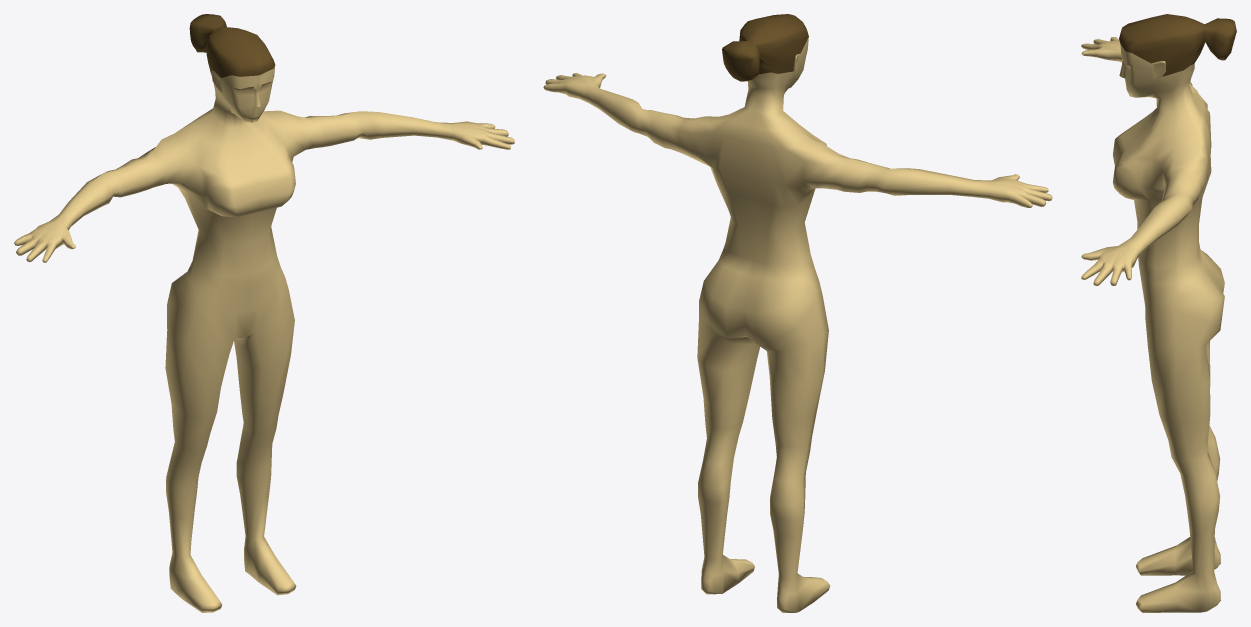
Rendered from Female.fbx.
The picture shows the model from 3 angles, left to right: view 1: azimuth 30°, elevation 25°; view 2: azimuth 150°, elevation 25°; view 3: azimuth 270°, elevation 25°; orthographic projection. The views are drawn at different scales.
Parts seen in each view (by area): view 1: Female1; view 2: Female1; view 3: Female1.
Part boxes in pixels (bbox=[...]): Female1: bbox=[14, 14, 514, 612]; Female1: bbox=[543, 14, 1052, 612]; Female1: bbox=[1081, 14, 1236, 612].
Bounding box in the file's own units: 165 × 179 × 44.29.
